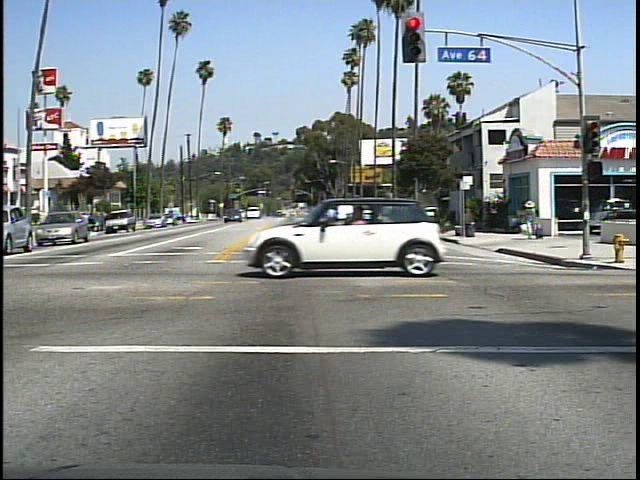person: (520, 197, 544, 243)
